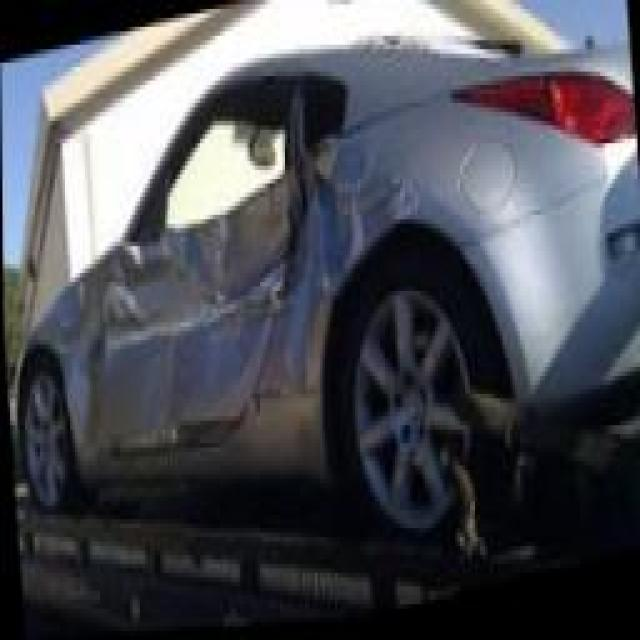Door: (94, 79, 293, 442)
Fender: (257, 100, 437, 383)
